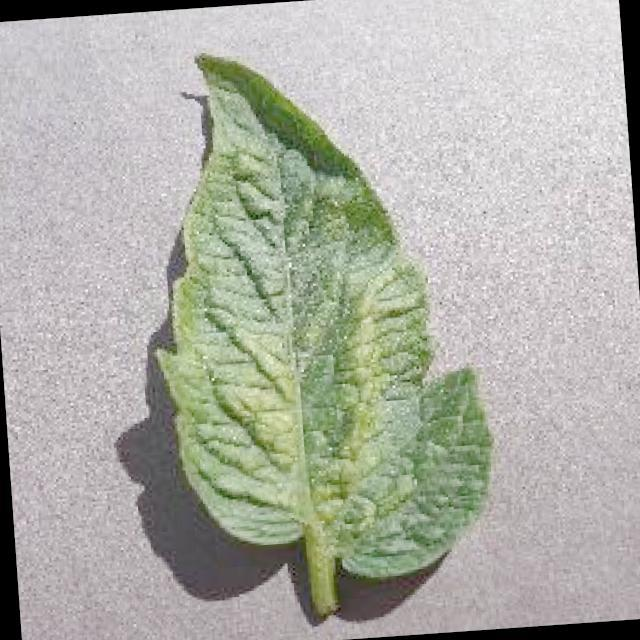Tomato spider mites leaf: (137, 31, 500, 594)
